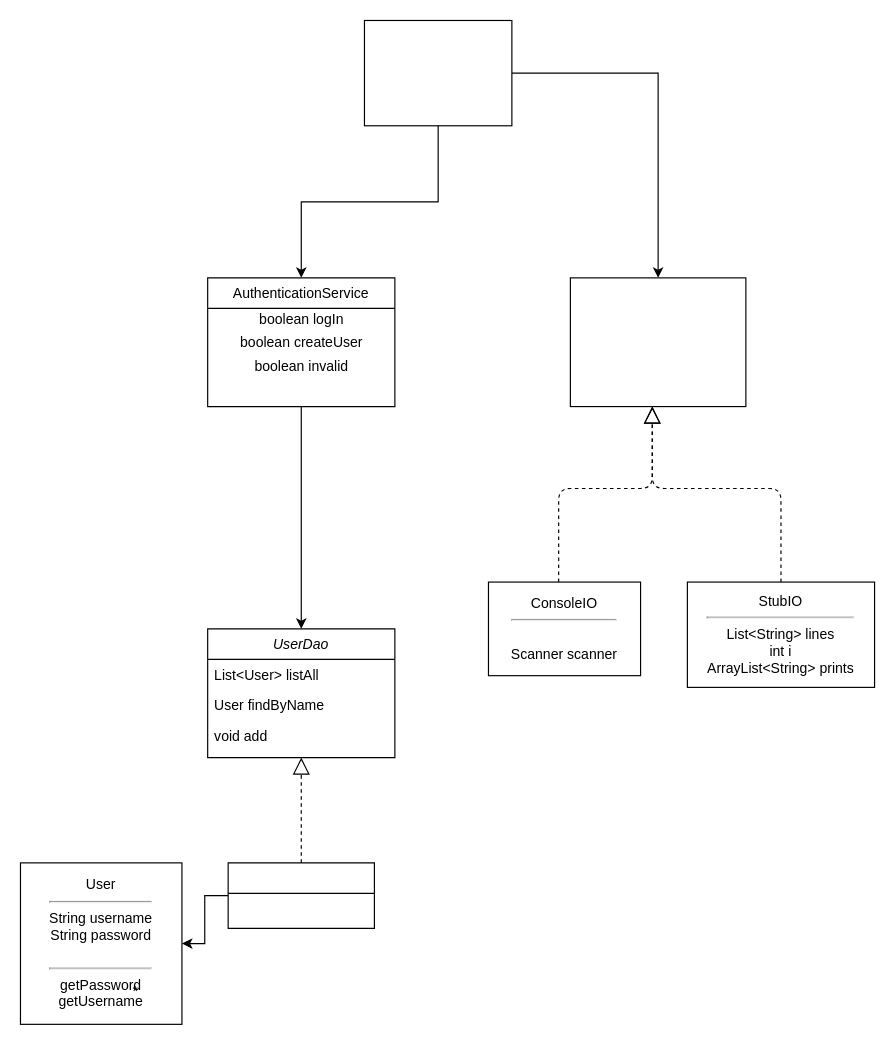
The diagram is 895 pixels wide and 1045 high, and some of its shapes have lost their labels. The centre of each missing label's shape, as x and y in pixels:
"App String[] ask void run" belongs at [437,72].
"InMemoryUserDao" belongs at [300,895].
"IO void print int readInt String readLine" belongs at [657,342].
